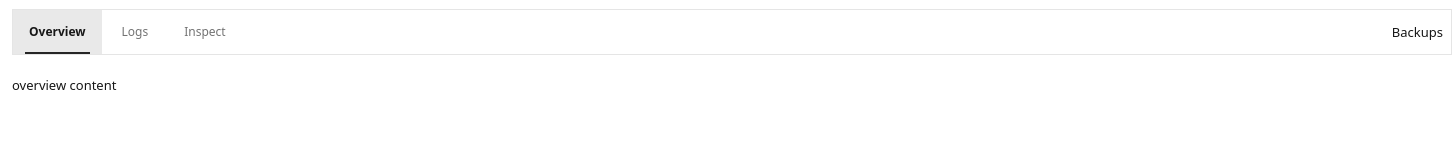
Test: ResourceTabs › keeps resource actions outside the tab list and available after switching tabs
Click the tab "Logs" at (135, 32), box 106,10 -> 164,54
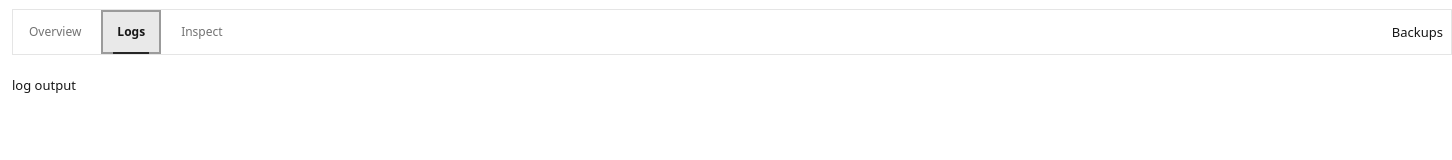
Expected: the button "Backups" is shown, 1392,22 -> 1443,42
Result: the text "log output" is shown at 12,76 -> 76,94
